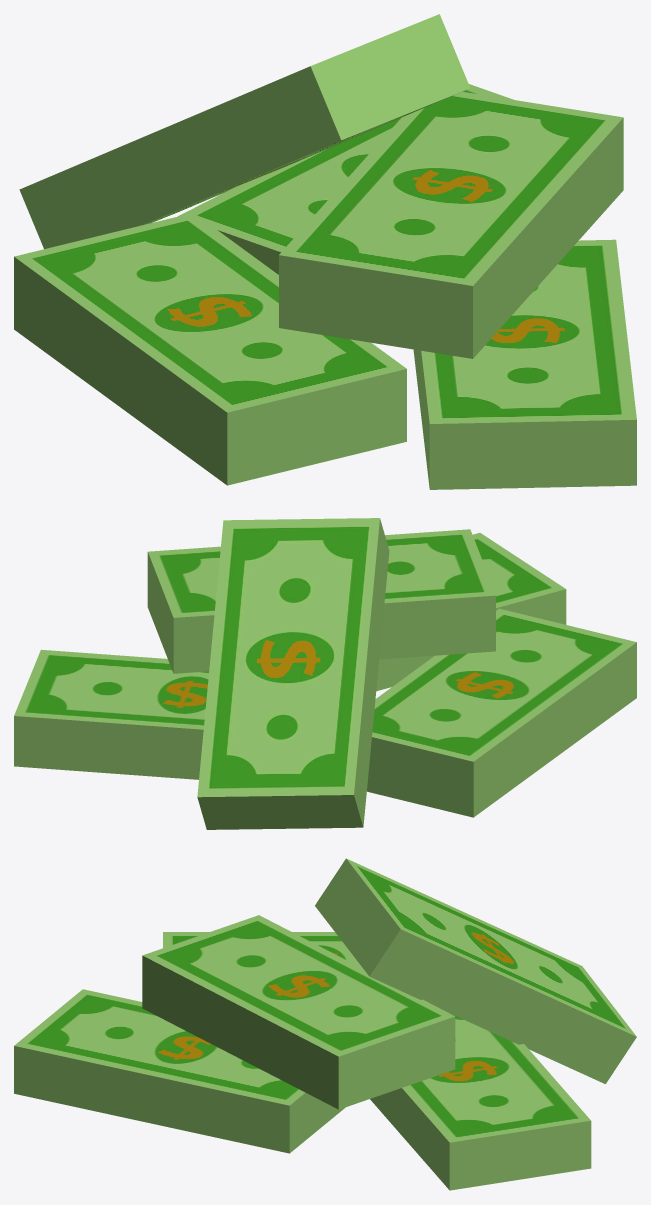
The model's file is Money.fbx.
The picture shows the model from 3 angles, top to bottom: view 1: azimuth 30°, elevation 25°; view 2: azimuth 150°, elevation 25°; view 3: azimuth 270°, elevation 25°; orthographic projection. The views are drawn at different scales.
Visible parts, largest first — view 1: Cube.001; view 2: Cube.001; view 3: Cube.001.
Part boxes in pixels (bbox=[...]): Cube.001: bbox=[14, 14, 636, 489]; Cube.001: bbox=[14, 518, 636, 829]; Cube.001: bbox=[14, 858, 636, 1190].
Bounding box in the file's own units: 24.62 × 11.67 × 31.49.
